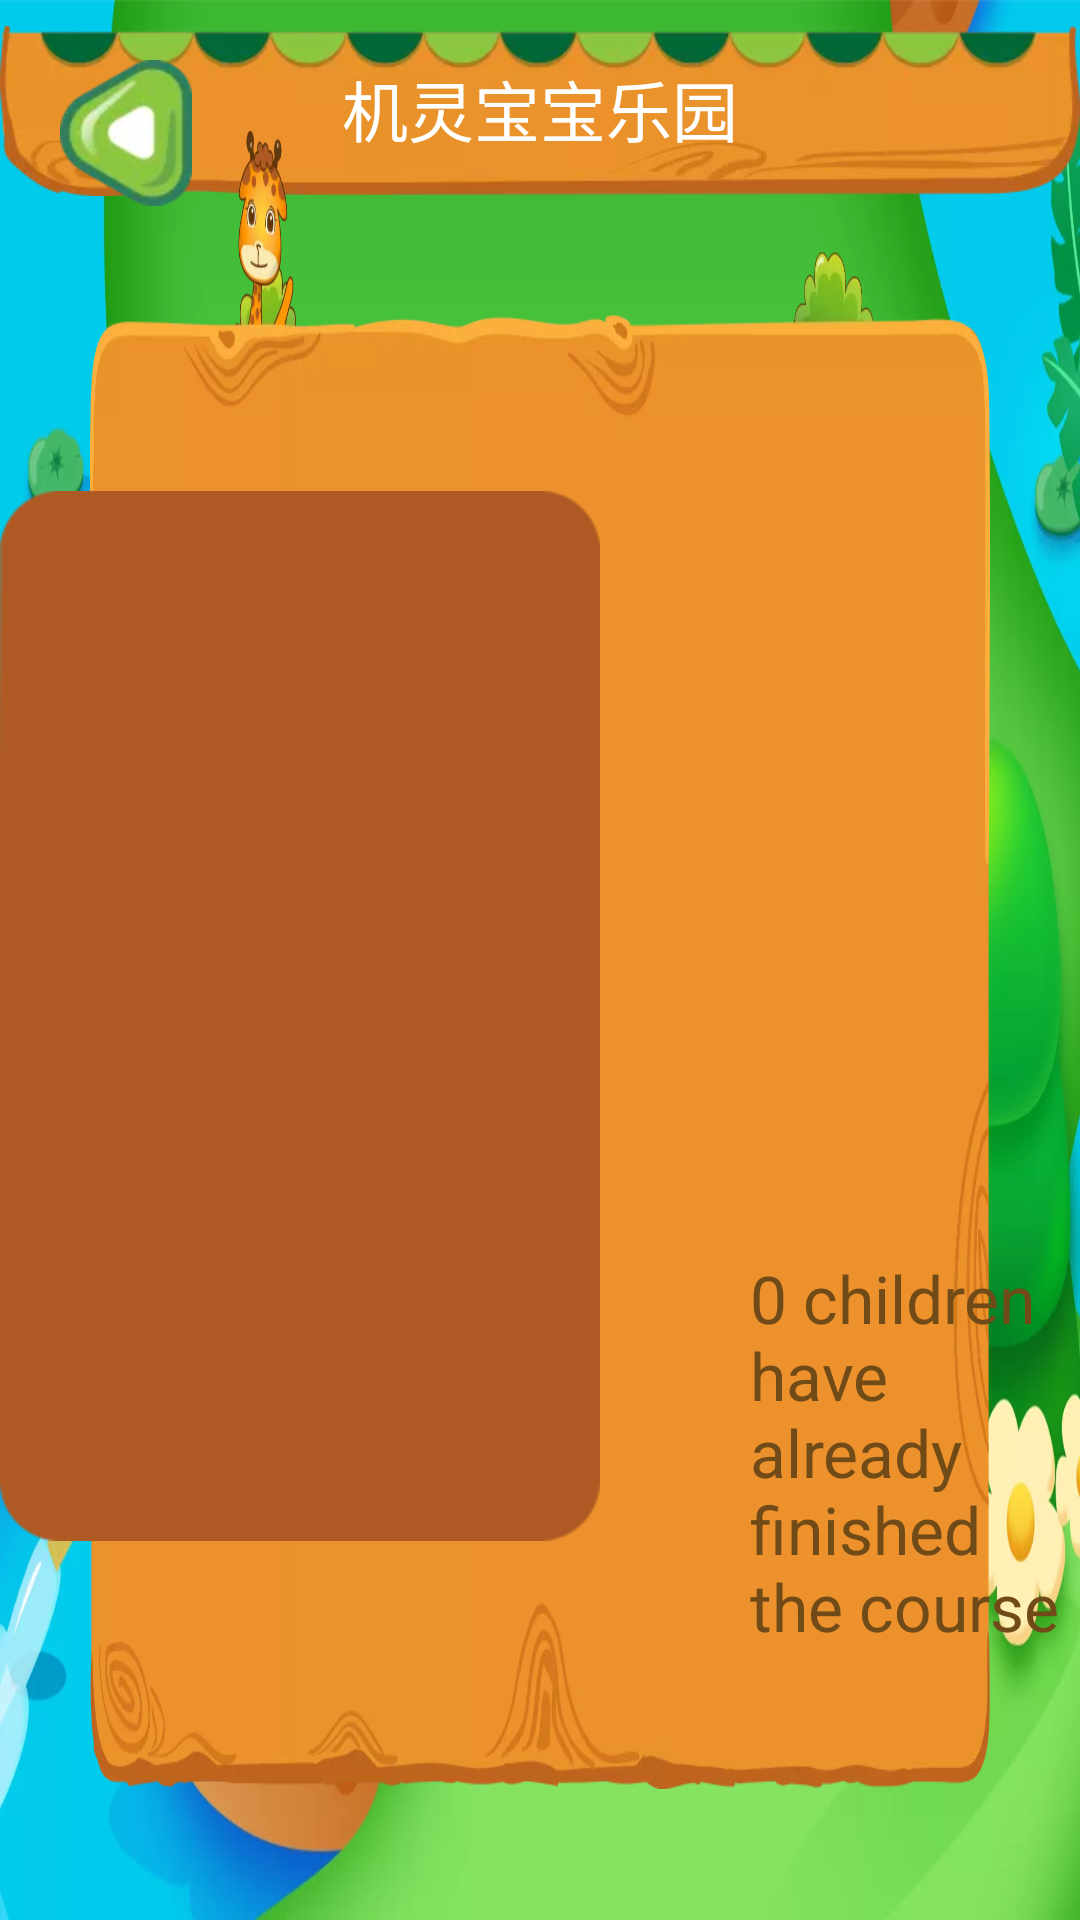

Icon click points for this 1080w x 1920h phone screenshot, format (x=x, y=y):
back: (x=126, y=133)
